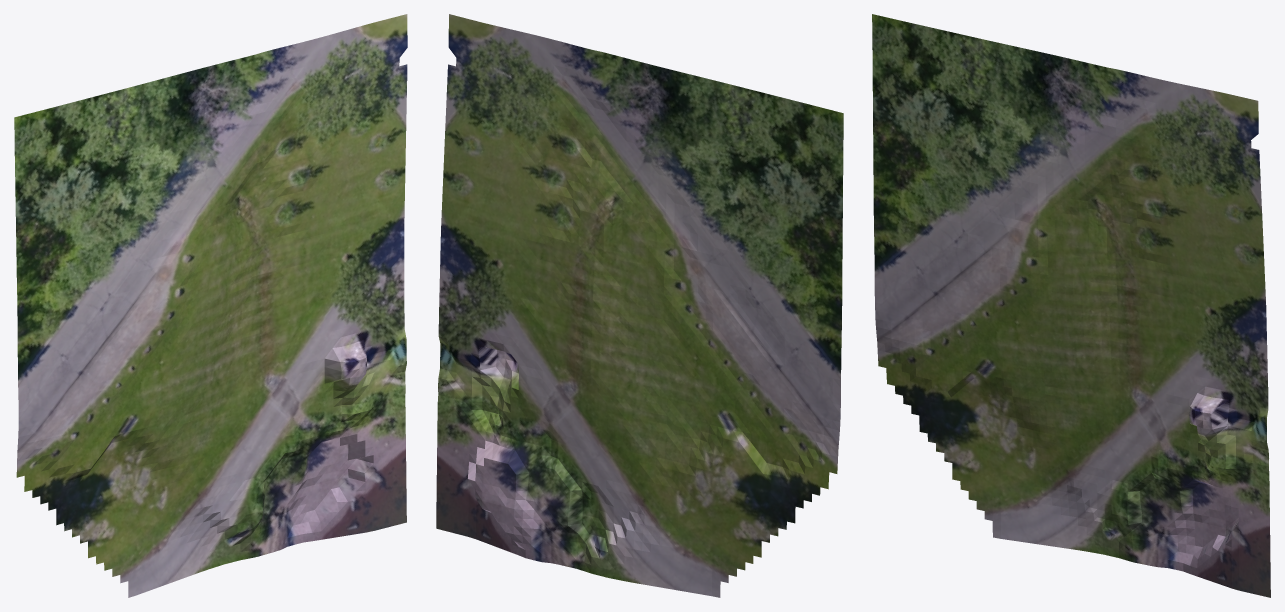
The model's file is odm_textured_model_geo.obj.
The picture shows the model from 3 angles, left to right: view 1: azimuth 30°, elevation 25°; view 2: azimuth 150°, elevation 25°; view 3: azimuth 330°, elevation 25°; orthographic projection. The views are drawn at different scales.
Bounding box in the file's own units: 50.54 × 62.38 × 4.92.
Materials: 1 (1 with a texture image).
